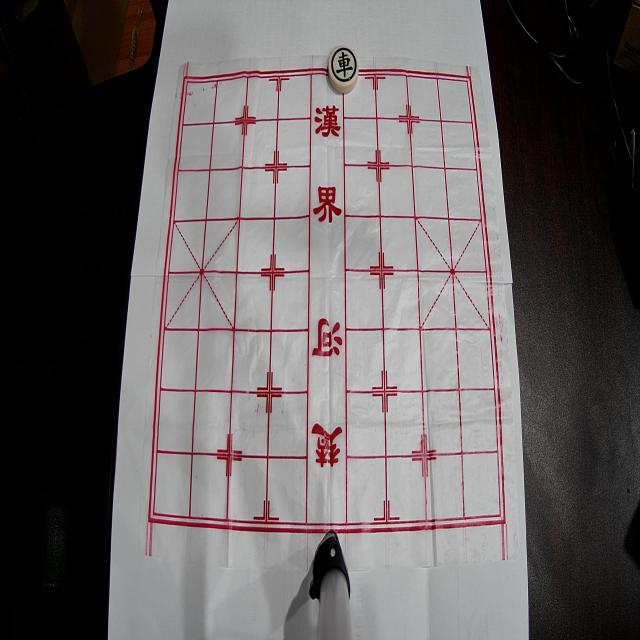black-chariot: (328, 45, 358, 93)
